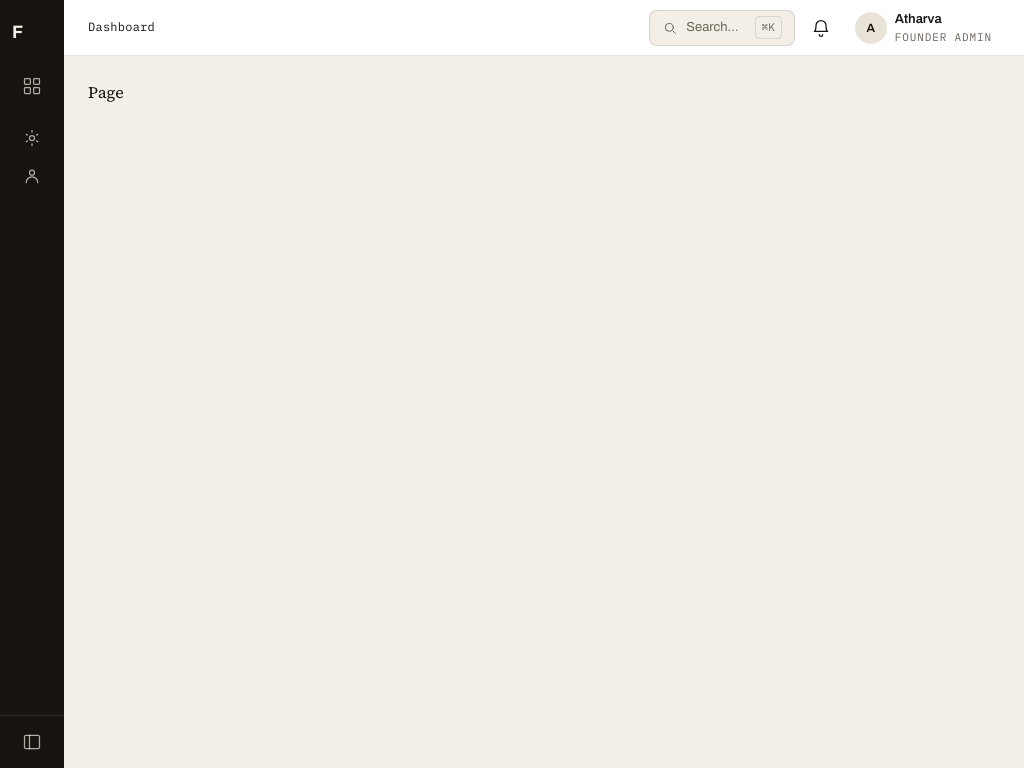
Test: Command palette › shows loading indicator while search is in flight
Click the button "Search… ⌘K" at (722, 28), box [649, 10, 795, 46]
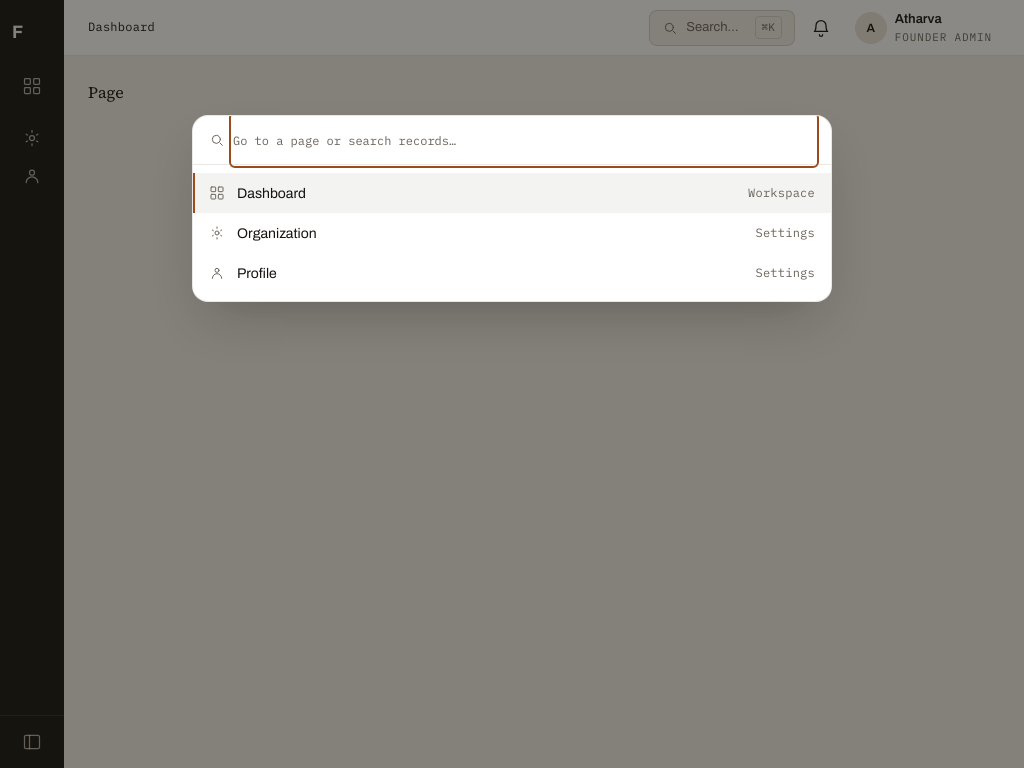
Type "Ac" into the field named "Search navigation and records" at (524, 140), box [233, 116, 815, 164]
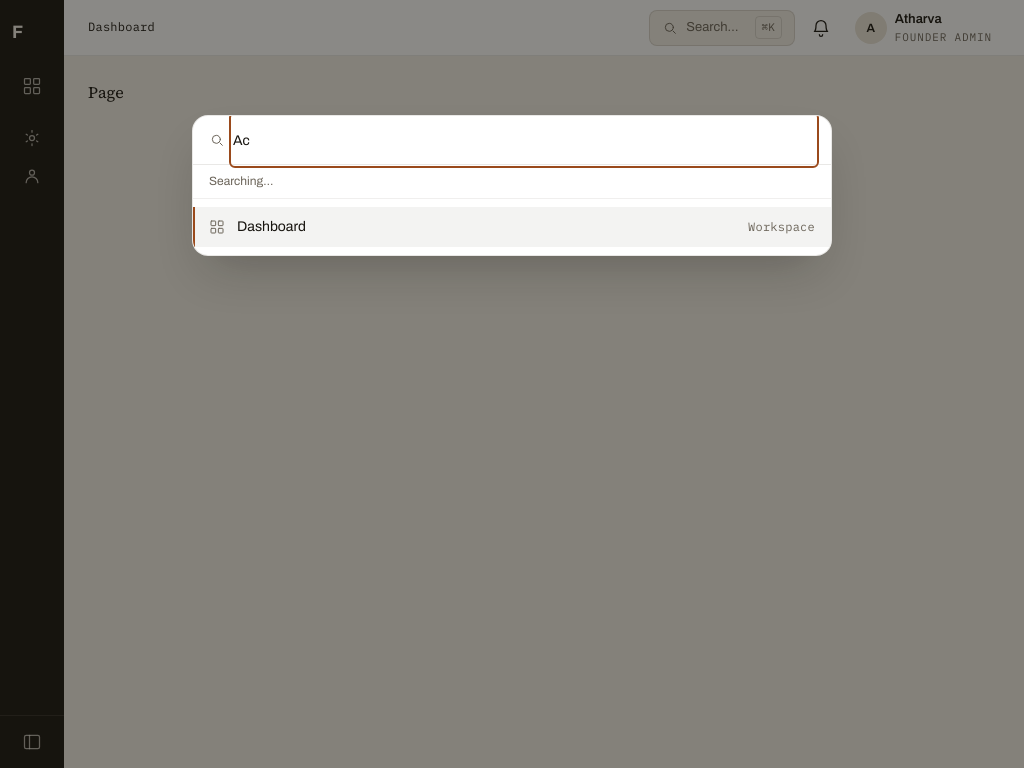
Expected: the text "Searching…" is shown, [193, 165, 831, 199]
